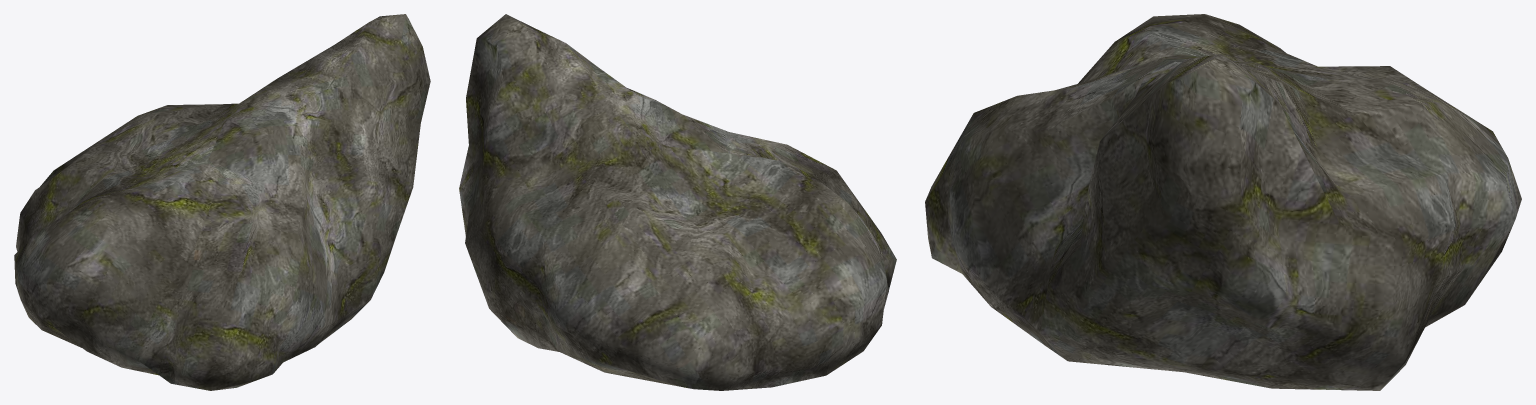
The model's file is mesh_stone-cliff-a.fbx.
3 views of the same model, side by side, from view 1: azimuth 30°, elevation 25°; view 2: azimuth 150°, elevation 25°; view 3: azimuth 270°, elevation 25° (orthographic). The views are drawn at different scales.
Parts seen in each view (by area): view 1: stone-cliff-a; view 2: stone-cliff-a; view 3: stone-cliff-a.
Boxes of the visible parts, bbox=[...] form: stone-cliff-a: bbox=[14, 14, 430, 390]; stone-cliff-a: bbox=[459, 14, 896, 390]; stone-cliff-a: bbox=[925, 14, 1521, 390].
Size of the model in its own units: 79 by 49.4 by 70.32.
1 material, 1 textured.
